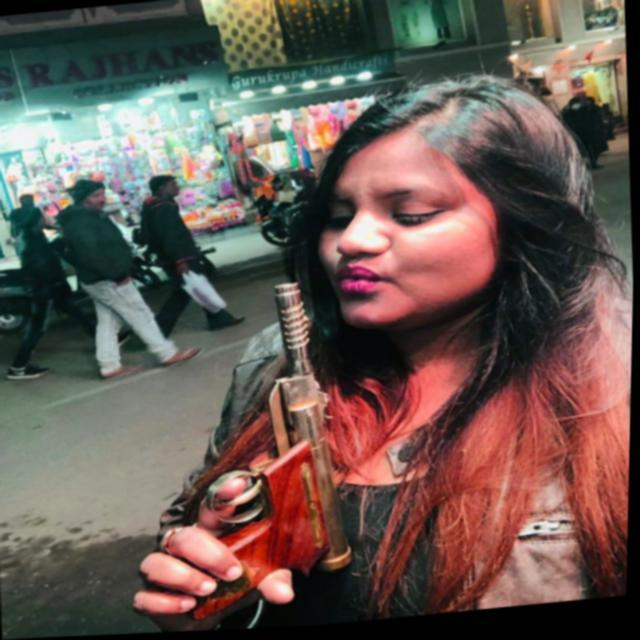weapon: (130, 272, 380, 636)
